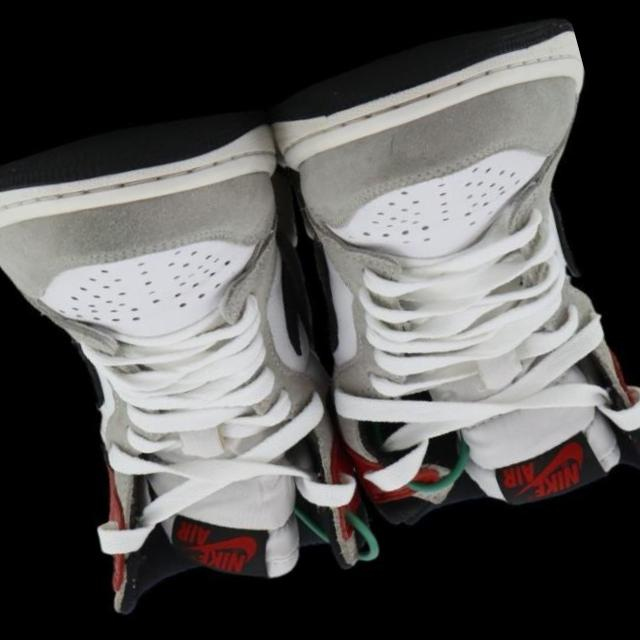nike_original_jordan: (0, 79, 409, 640), (241, 0, 640, 562)
